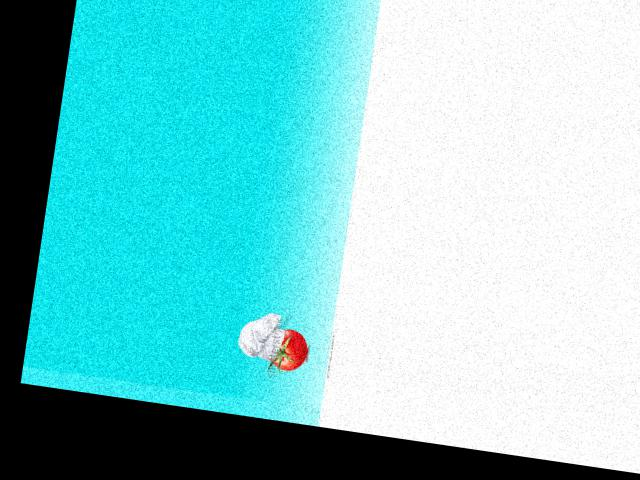tomato: (269, 327, 309, 372)
